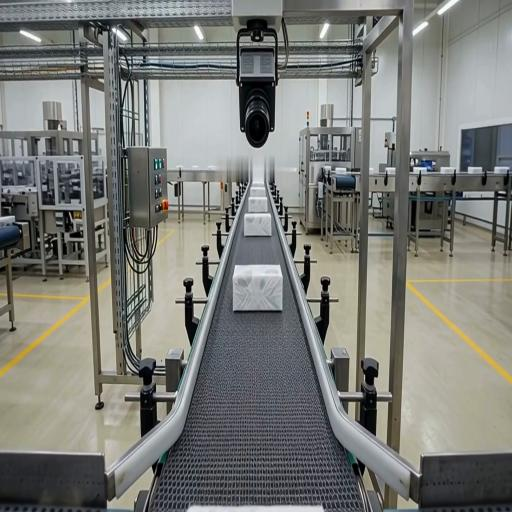good: (232, 264, 282, 312), (244, 213, 272, 237), (248, 196, 268, 213), (250, 185, 266, 197), (250, 182, 265, 188)
